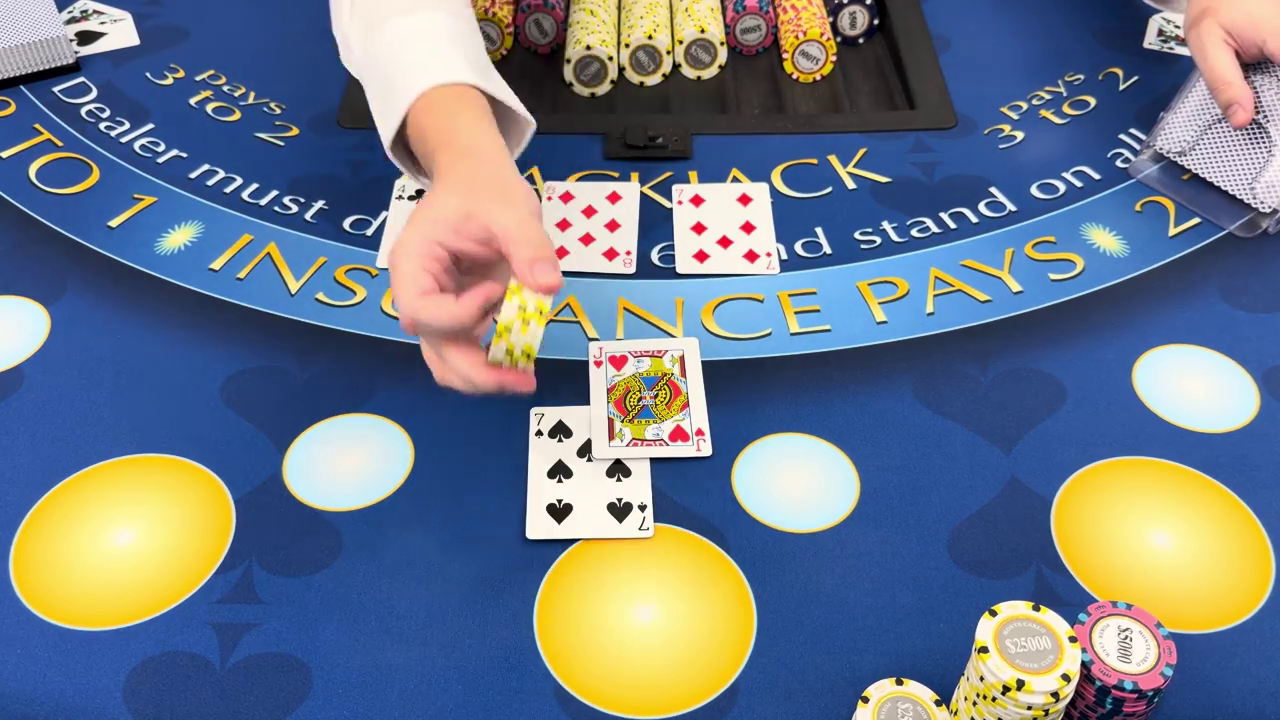4C: (391, 179, 409, 203)
7D: (760, 246, 778, 272), (672, 182, 689, 209)
7S: (632, 498, 655, 532), (529, 408, 549, 443)
8D: (542, 181, 559, 203), (621, 249, 637, 272)
JH: (689, 426, 710, 455), (591, 344, 607, 371)
